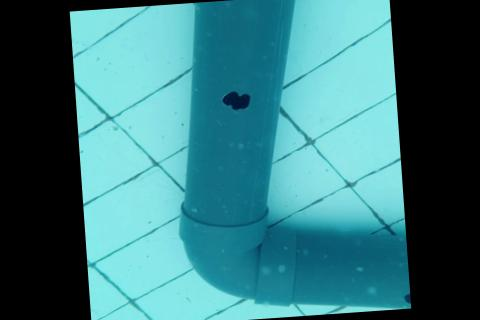kebocoran: (219, 88, 252, 110), (399, 289, 410, 305)
